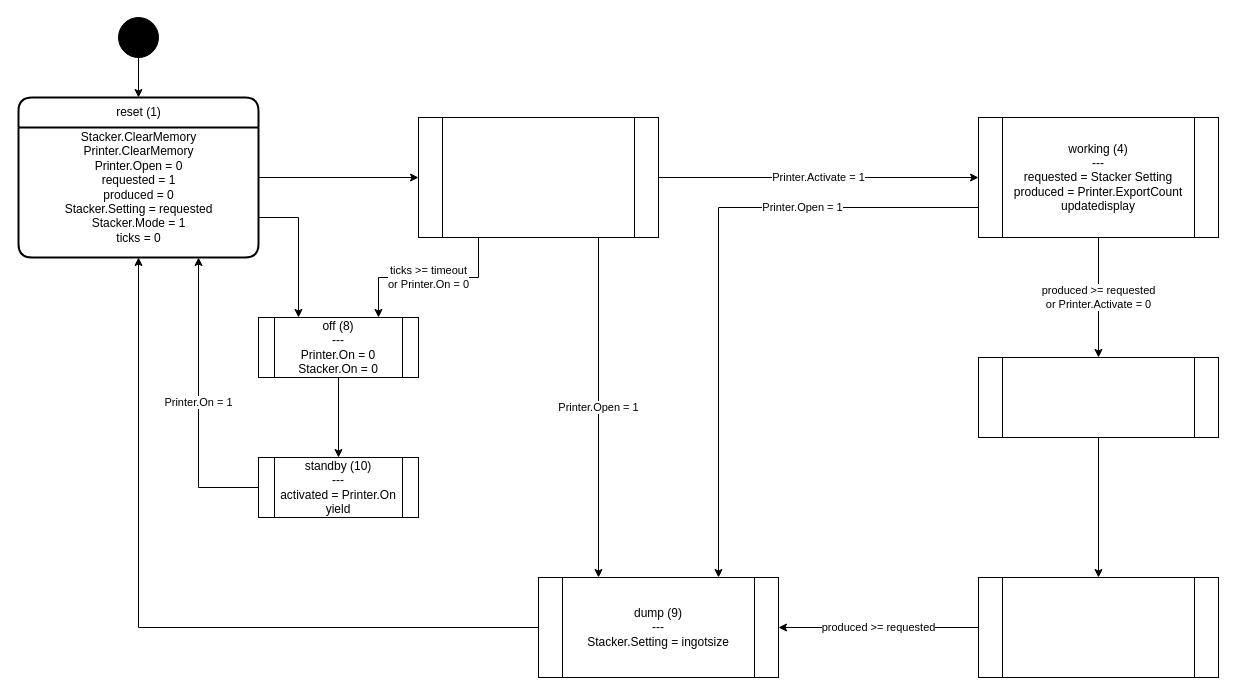
This 1236x695 diagram has some shape labels left out. The shapes that lost their labels are listed below. From the top down, each one's centre as x and y in pixels, then its label:
(x=538, y=177): idle (2) --- ticks++ requested = Stacker Setting updatedisplay
(x=1098, y=397): complete (5) --- Printer.Activate = 0 yield
(x=1098, y=627): wait (6) --- requested = Printer ExportCount produced = Stacker.ImportCount
